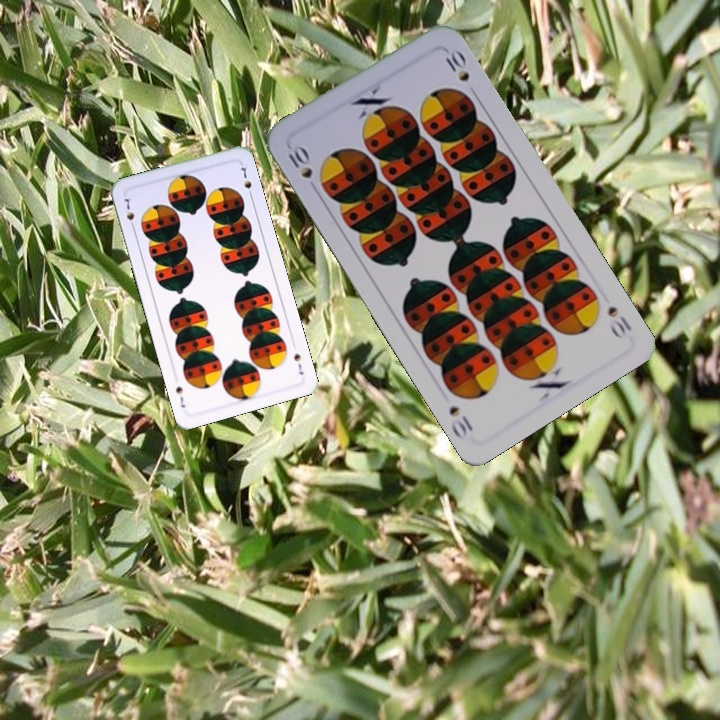S10: (283, 141, 321, 196), (603, 301, 635, 342)
S7: (120, 194, 137, 232), (290, 350, 306, 377)
